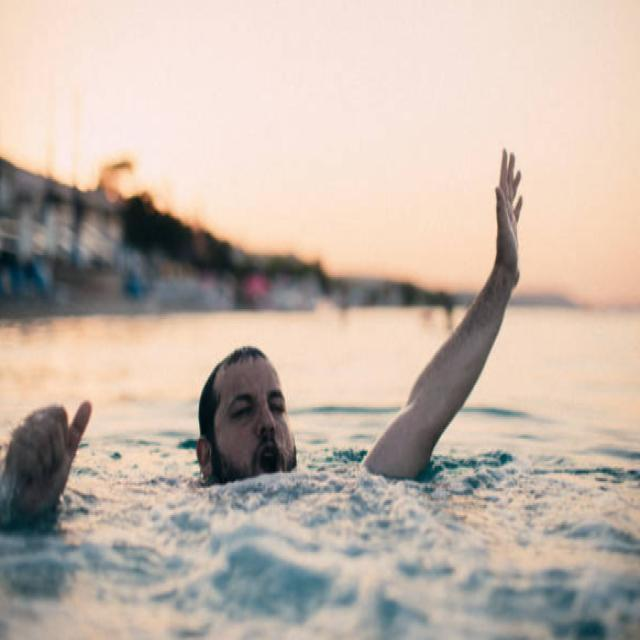Out of Water: (1, 142, 526, 531)
